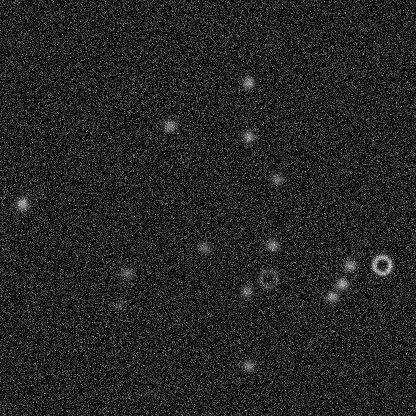Ring: (256, 266, 280, 290), (369, 252, 393, 276)
Spot: (323, 288, 339, 304), (161, 118, 177, 134), (195, 239, 211, 255), (341, 257, 357, 273), (119, 265, 135, 281), (268, 171, 284, 187), (334, 275, 350, 291), (238, 283, 254, 299), (240, 357, 256, 373), (111, 296, 127, 312), (14, 195, 30, 211), (240, 74, 256, 90), (240, 128, 256, 144), (264, 237, 280, 253)
